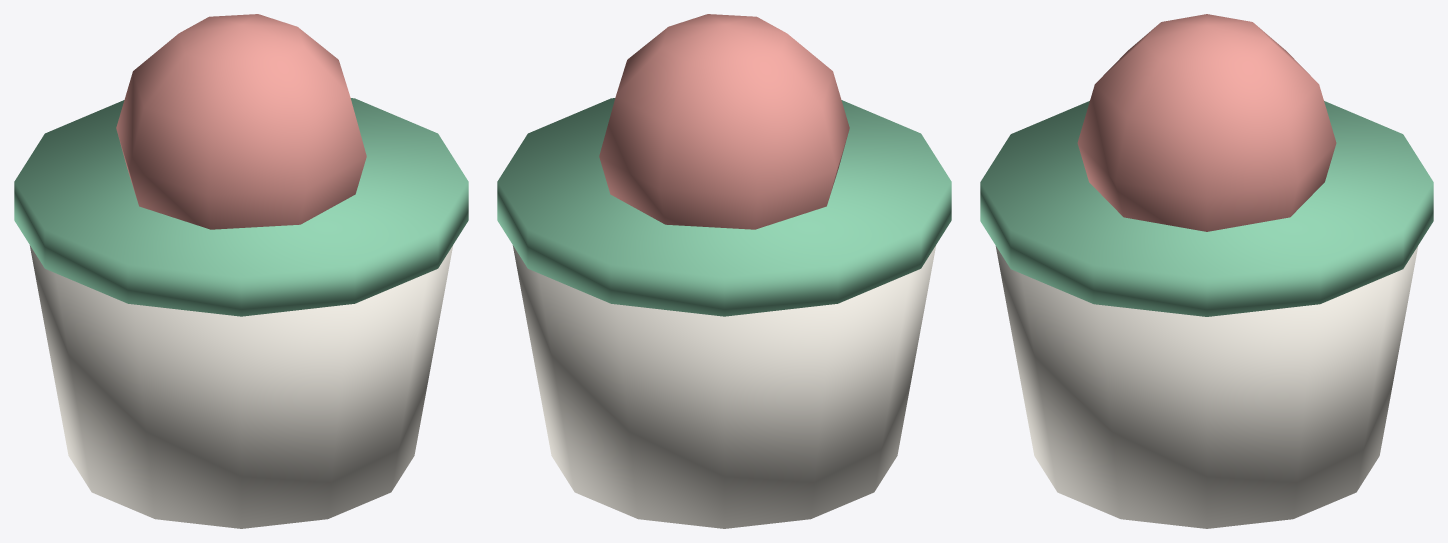
The model's file is ice_cream_tub.gltf.
3 views of the same model, side by side, from view 1: azimuth 30°, elevation 25°; view 2: azimuth 150°, elevation 25°; view 3: azimuth 270°, elevation 25° (orthographic).
Parts seen in each view (by area): view 1: ice_cream_tub_mesh; view 2: ice_cream_tub_mesh; view 3: ice_cream_tub_mesh.
Part boxes in pixels (bbox=[...]): ice_cream_tub_mesh: bbox=[14, 14, 468, 528]; ice_cream_tub_mesh: bbox=[497, 14, 951, 528]; ice_cream_tub_mesh: bbox=[980, 14, 1433, 528].
Size of the model in its own units: 0.21 by 0.22 by 0.21.
